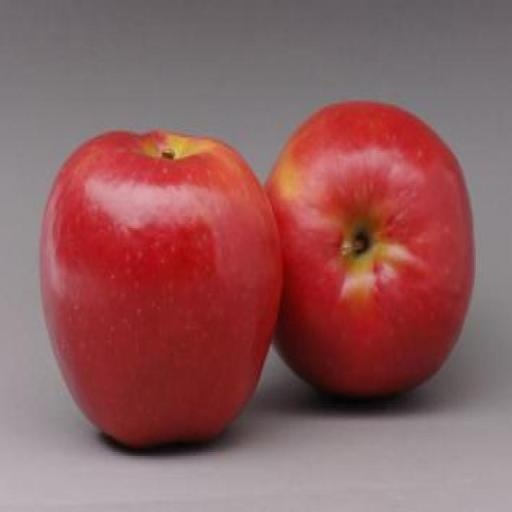fruit: (40, 132, 281, 446), (268, 103, 473, 396)
